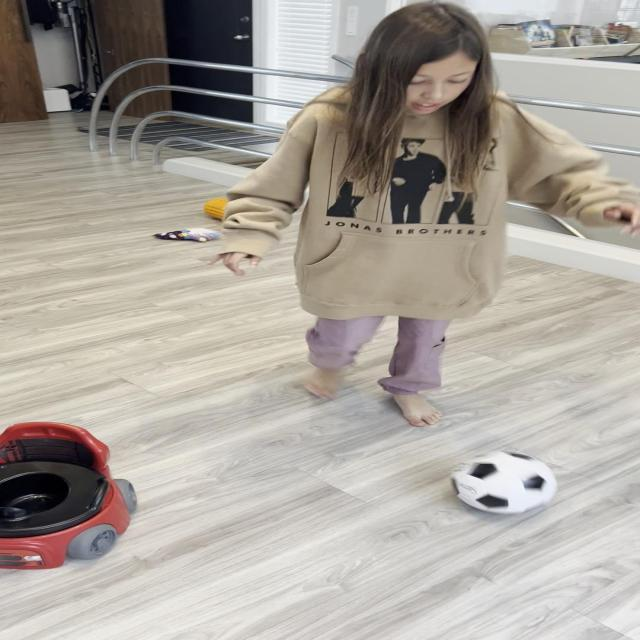Soccer Ball: (451, 450, 556, 514)
